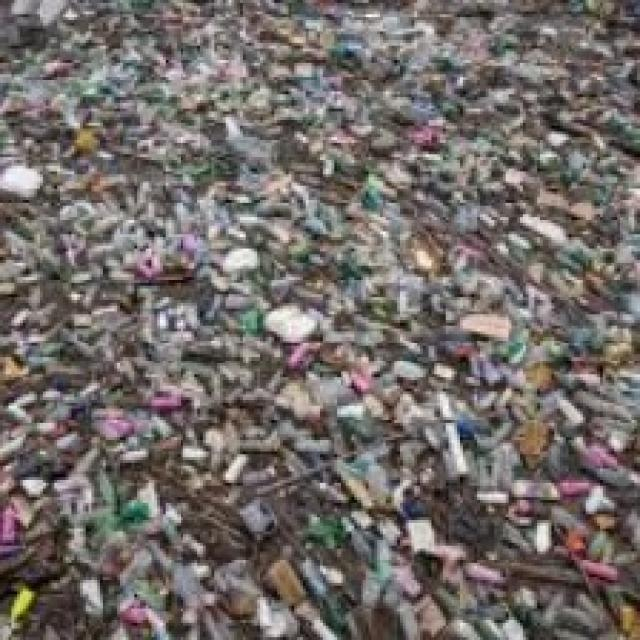glass: (370, 379, 564, 531)
heap: (84, 40, 591, 616)
